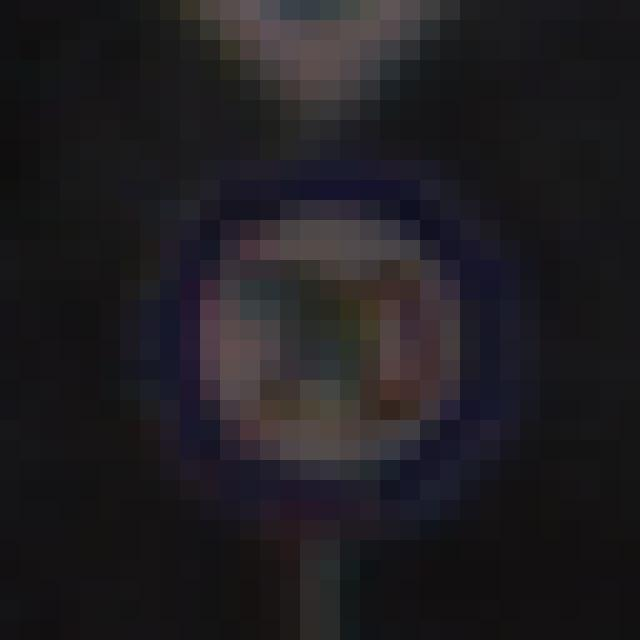SPEED LIMIT 70: (169, 183, 485, 500)
